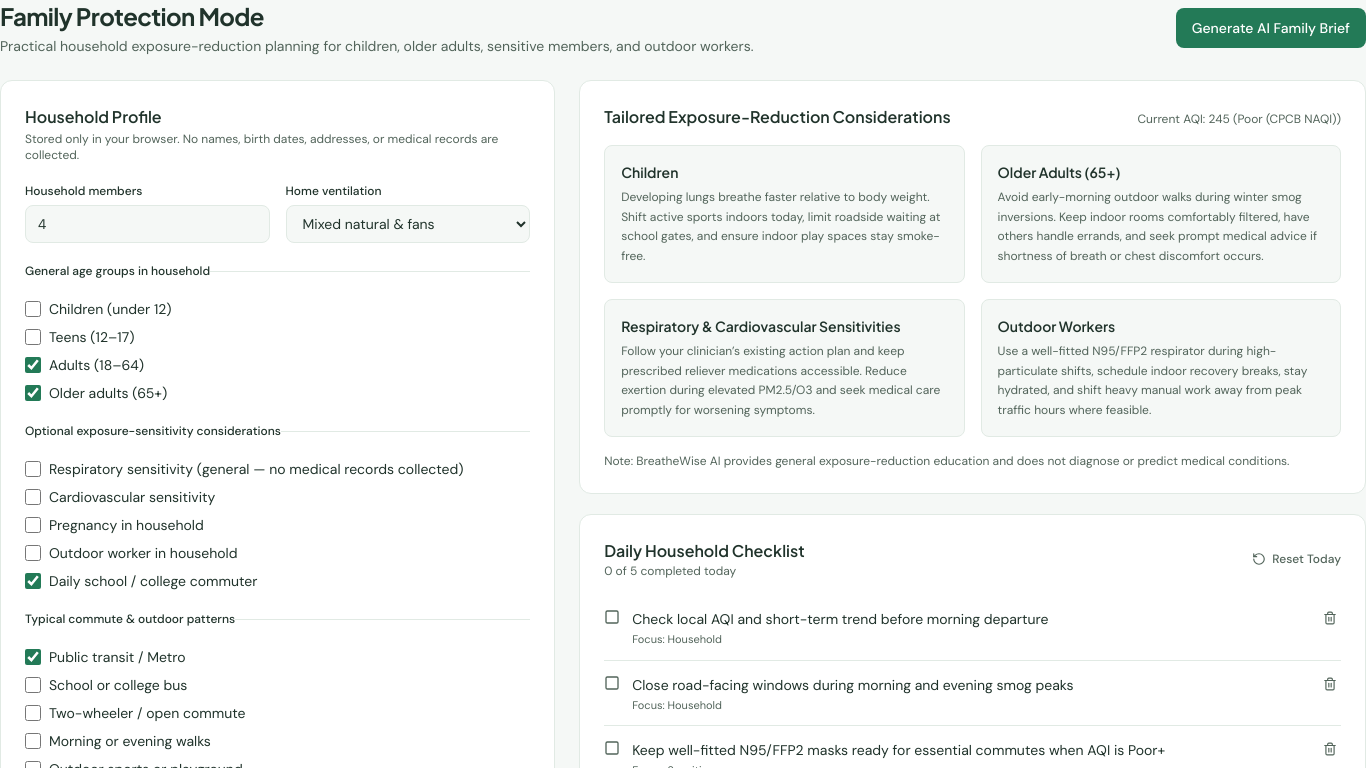
Test: Page-level behavioral, accessibility, state, and error-boundary tests › FamilyProtectionPage toggles household profile, manages checklist items, and generates/dismisses AI brief
Click the checkbox labelled "Children (under 12)" at [33, 309], box [25,301,41,317]
(page scrolled)
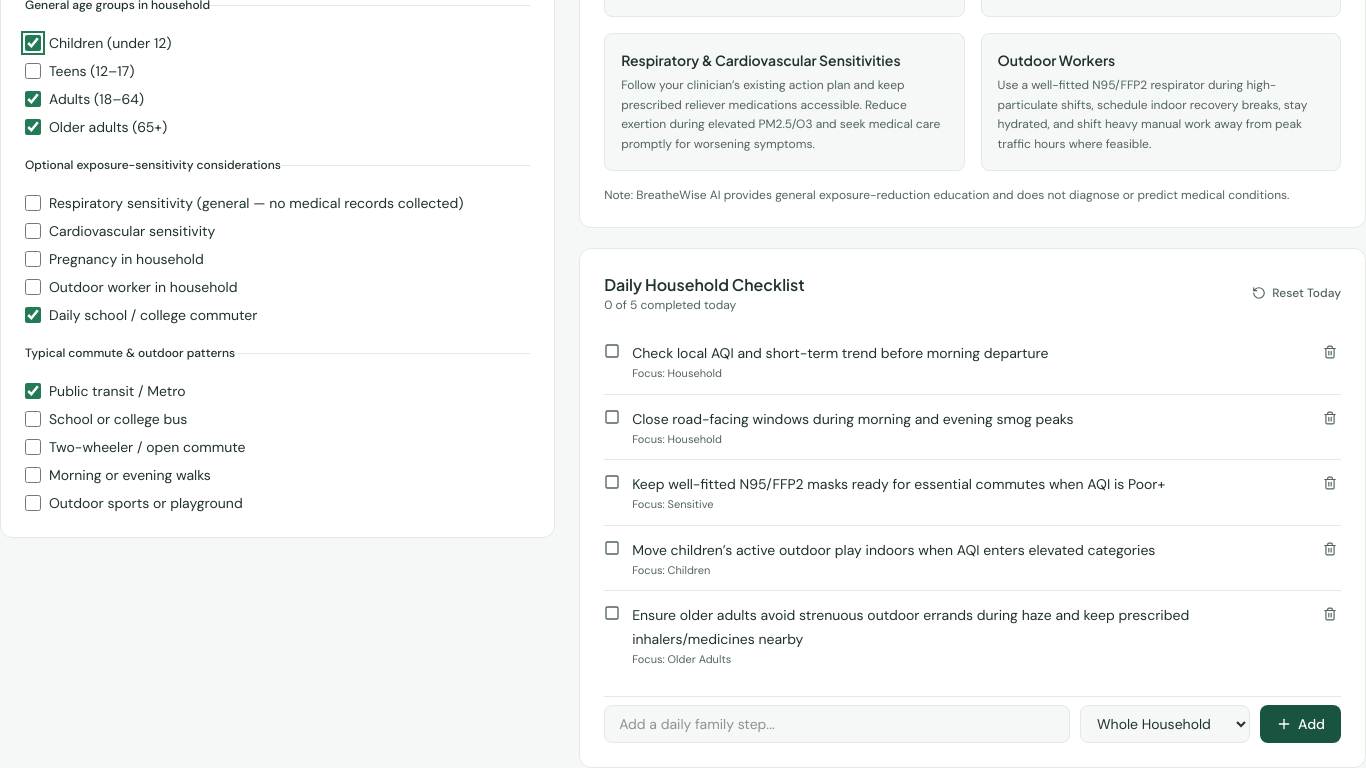
Now the checkbox labelled "Children (under 12)" is checked, box [25,35,41,51]
Add a custom checklist item and toggle its aria-pressed state
Type "Pack spare N95 masks in school bag" into the field named "add daily checklist item" at [837, 724], box [604,704,1070,742]
Click the button "Add" at [1301, 724], box [1260,704,1341,742]
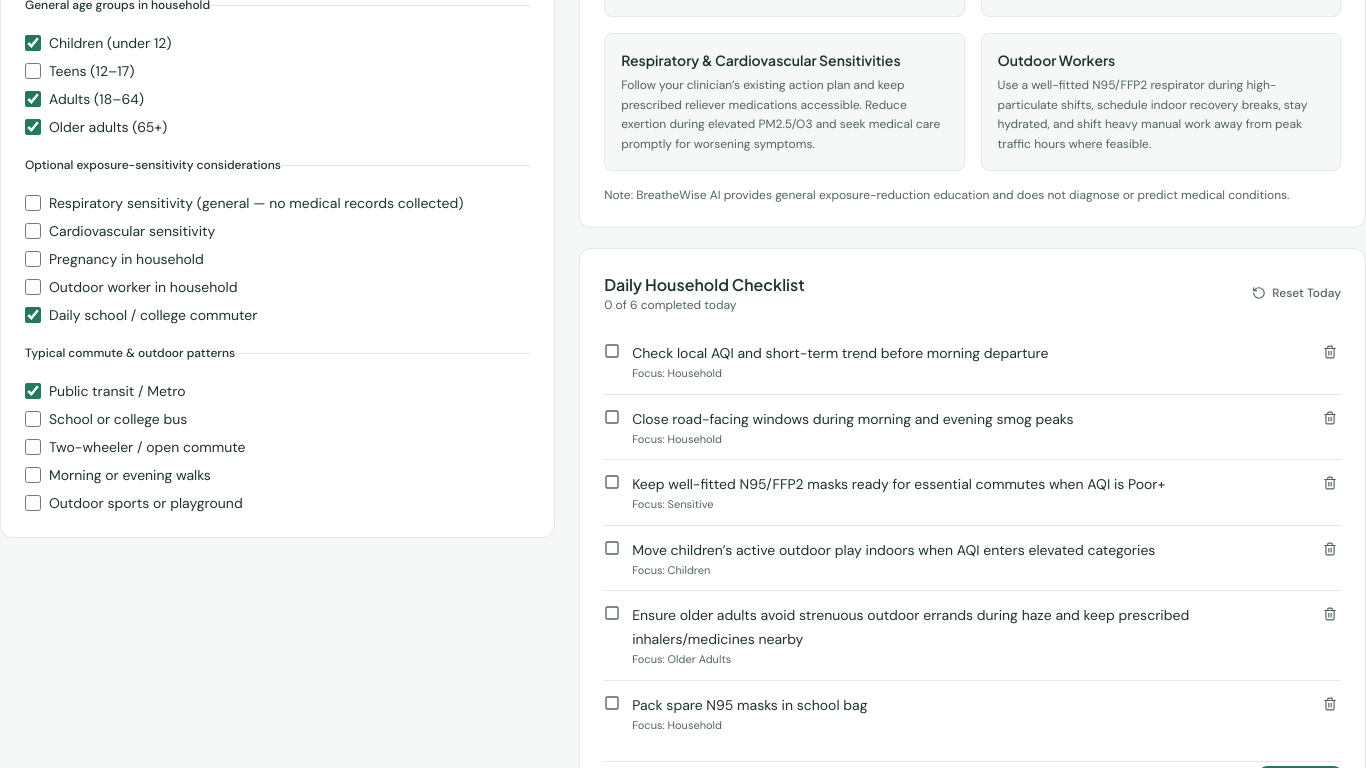
Click the button "Pack spare N95 masks in school bag Focus: household" at [750, 704], box [604,692,1307,733]
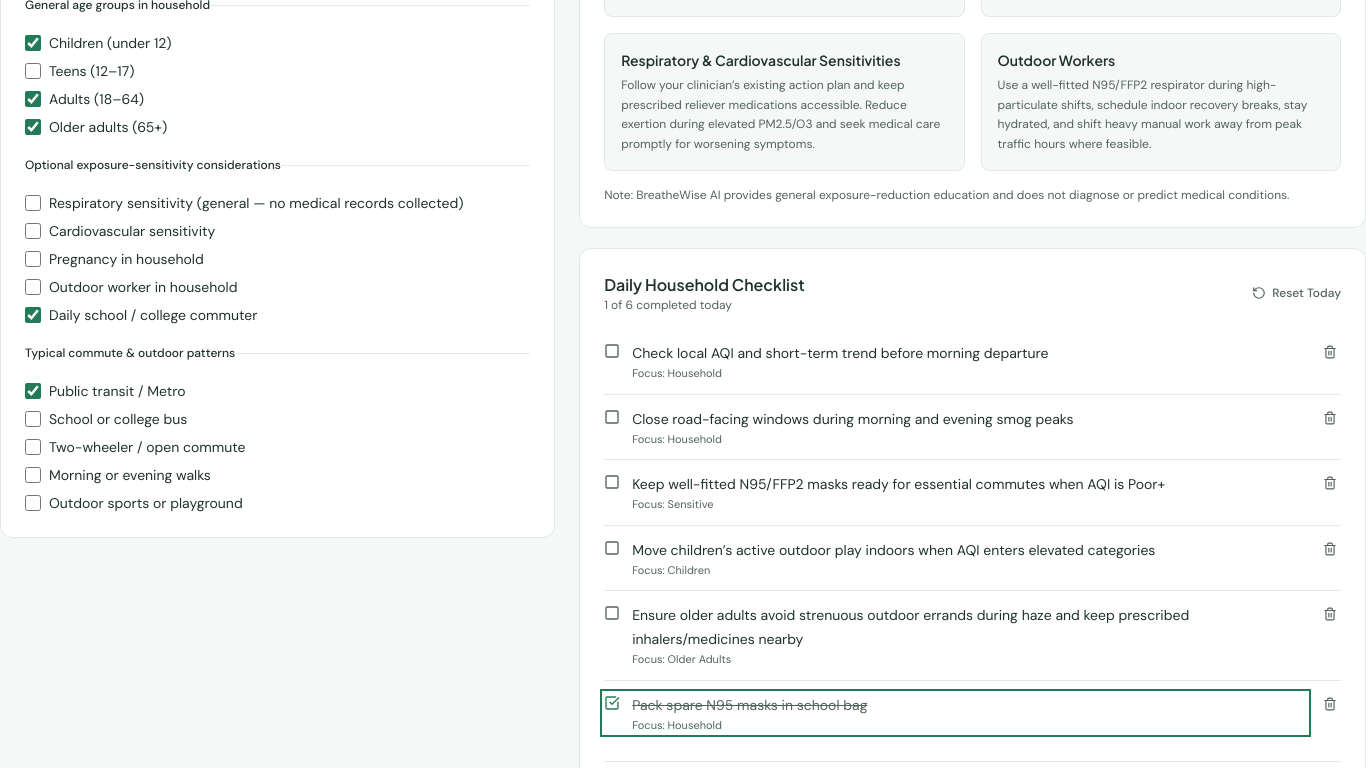
Now the button "Pack spare N95 masks in school bag Focus: household" is pressed, box [604,692,1307,733]
Remove custom item
Click the button named "delete checklist item: pack spare n95 masks in school bag" at [1330, 704], box [1319,692,1341,714]
(page scrolled)
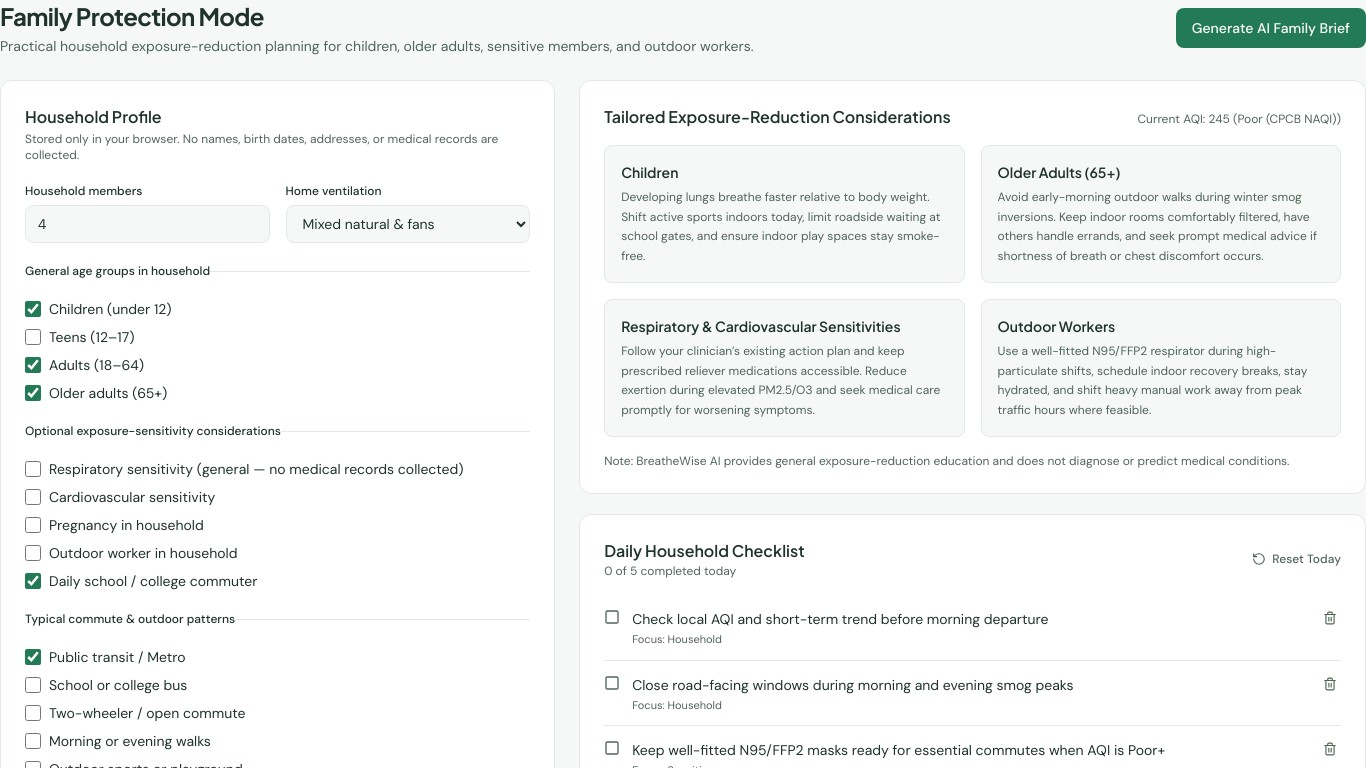
Now the button "Pack spare N95 masks in school bag" is gone
Generate & dismiss AI brief
Click the button "Generate AI Family Brief" at [1271, 28], box [1176,8,1365,48]
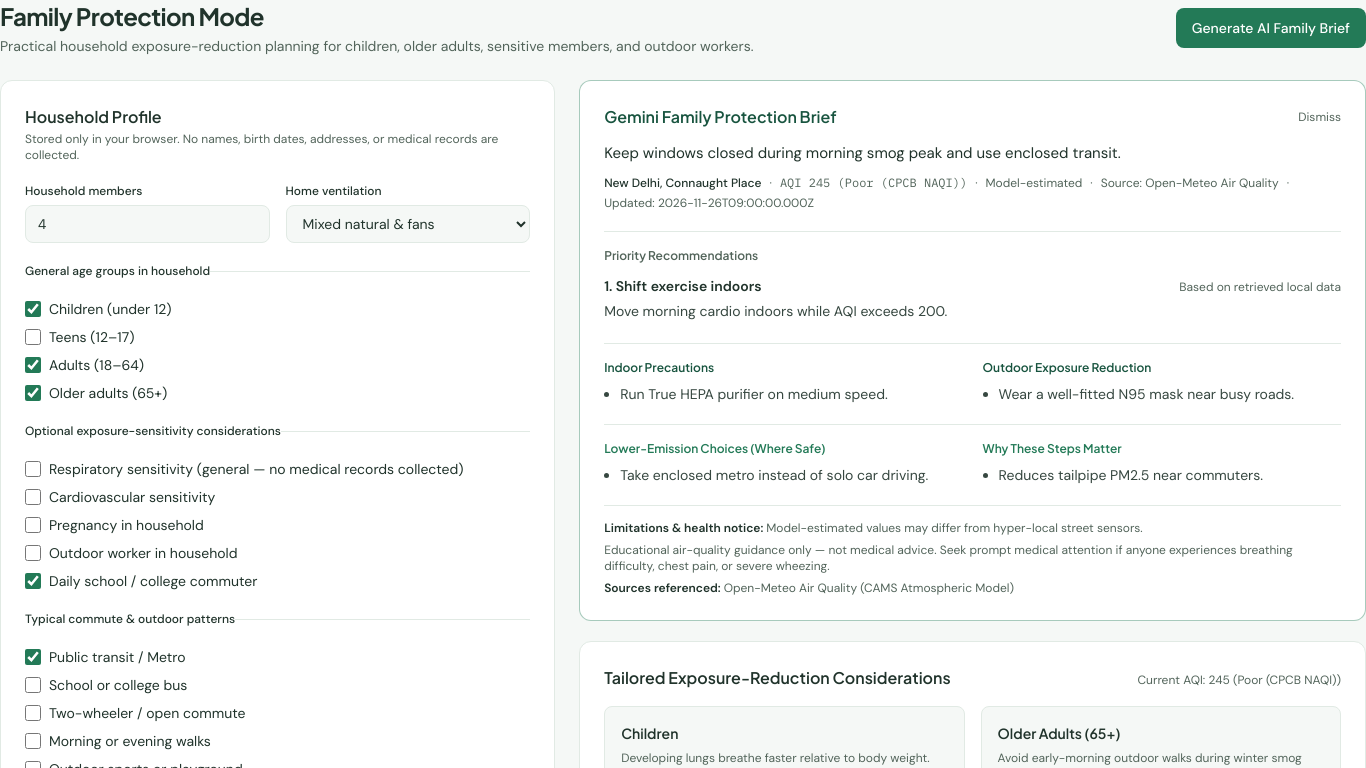
Now the heading "Gemini Family Protection Brief" is shown, box [604,105,837,129]
Click the button "Dismiss" at [1320, 117], box [1298,109,1341,125]
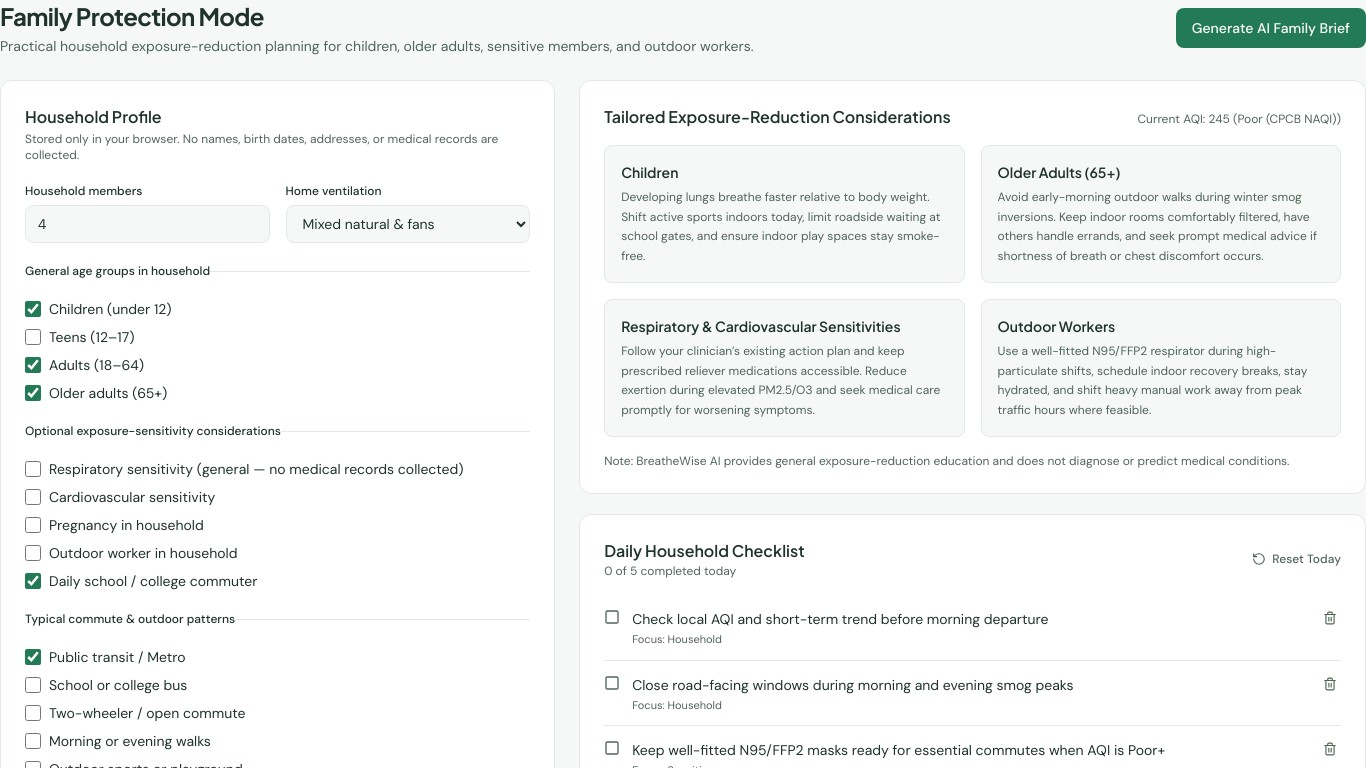
Now the heading "Gemini Family Protection Brief" is gone
